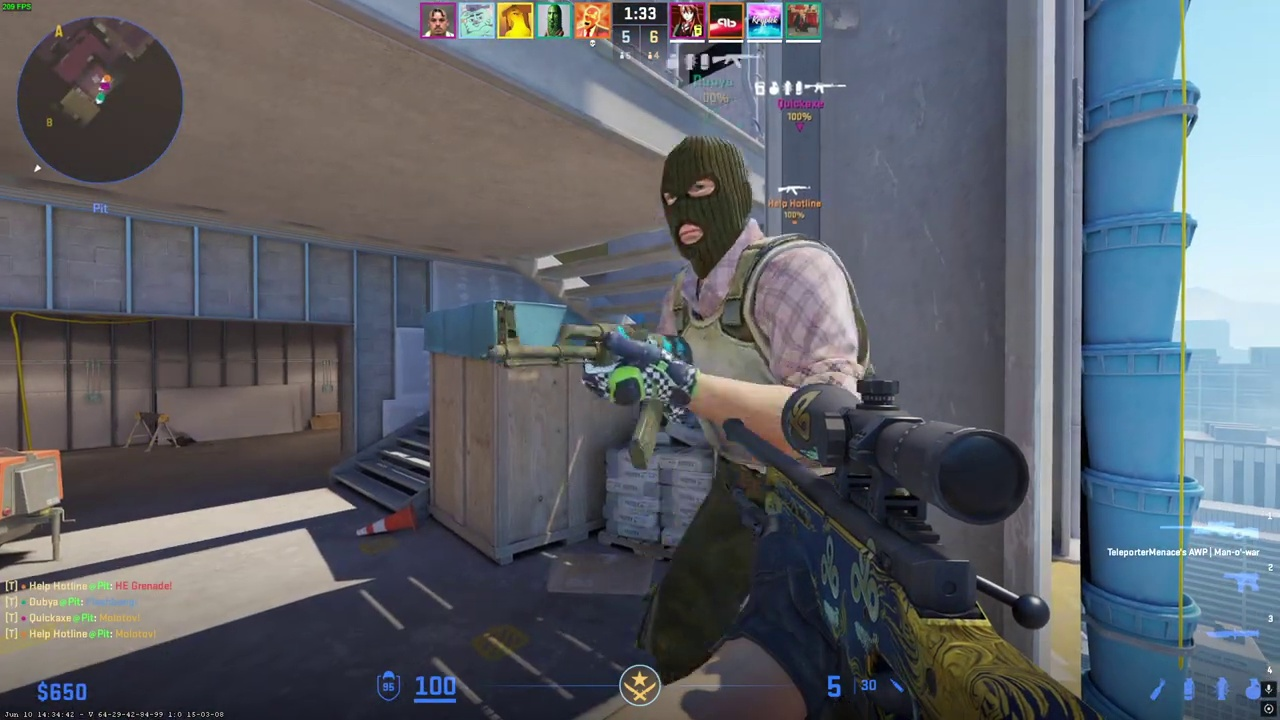Terrorist: (609, 136, 867, 684)
